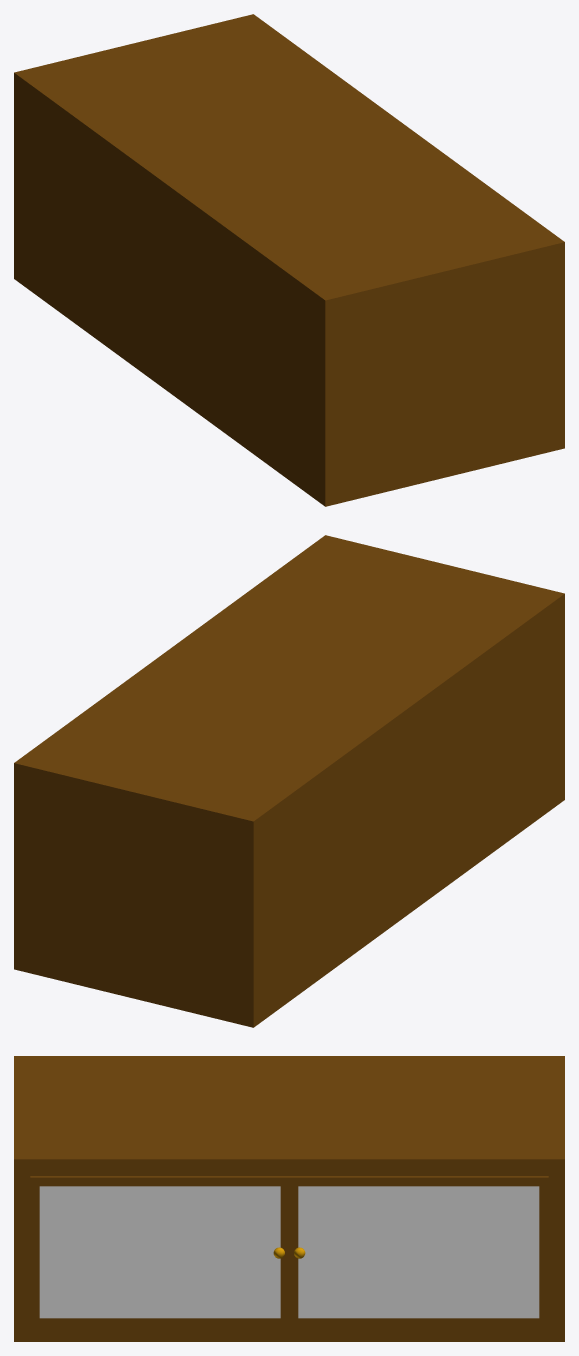
The model's file is Cabinet.fbx.
3 views of the same model, one above another, from view 1: azimuth 30°, elevation 25°; view 2: azimuth 150°, elevation 25°; view 3: azimuth 270°, elevation 25° (orthographic). The views are drawn at different scales.
Visible parts, largest first — view 1: Body; view 2: Body; view 3: Body, GlassRight, GlassLeft, FrameRight, FrameLeft.
Boxes of the visible parts, x1,y1,x2,y2 form: Body: (14, 14, 564, 506); Body: (14, 535, 564, 1027); Body: (14, 1056, 564, 1341); GlassRight: (39, 1186, 280, 1318); GlassLeft: (298, 1186, 539, 1318); FrameRight: (30, 1176, 289, 1326); FrameLeft: (289, 1176, 548, 1326).
Size of the model in its own units: 77.55 by 61.62 by 169.
